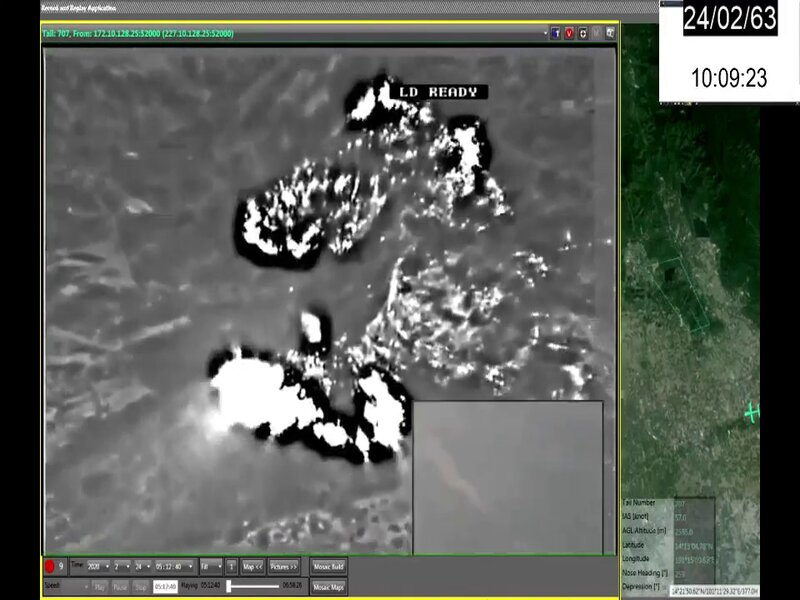Fire: (206, 76, 410, 468)
